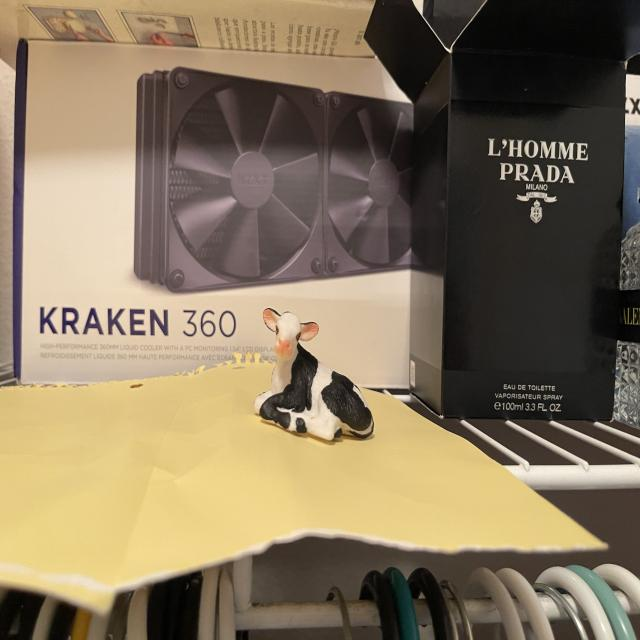cow: (252, 308, 381, 443)
